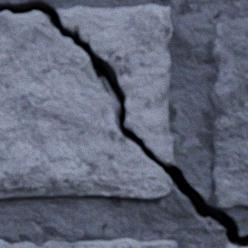brick: (211, 19, 247, 208), (0, 238, 177, 247)
broken_brick: (0, 12, 171, 198), (57, 5, 173, 165), (226, 243, 238, 247)
crack: (0, 1, 247, 247)
